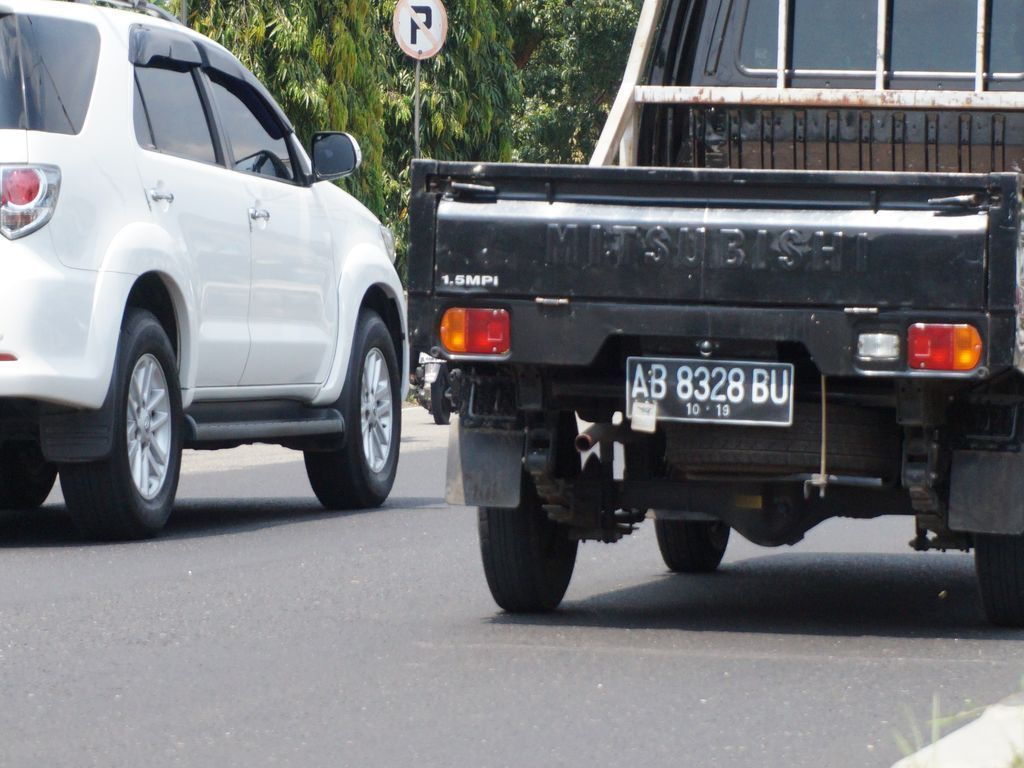plate: (632, 365, 789, 418)
